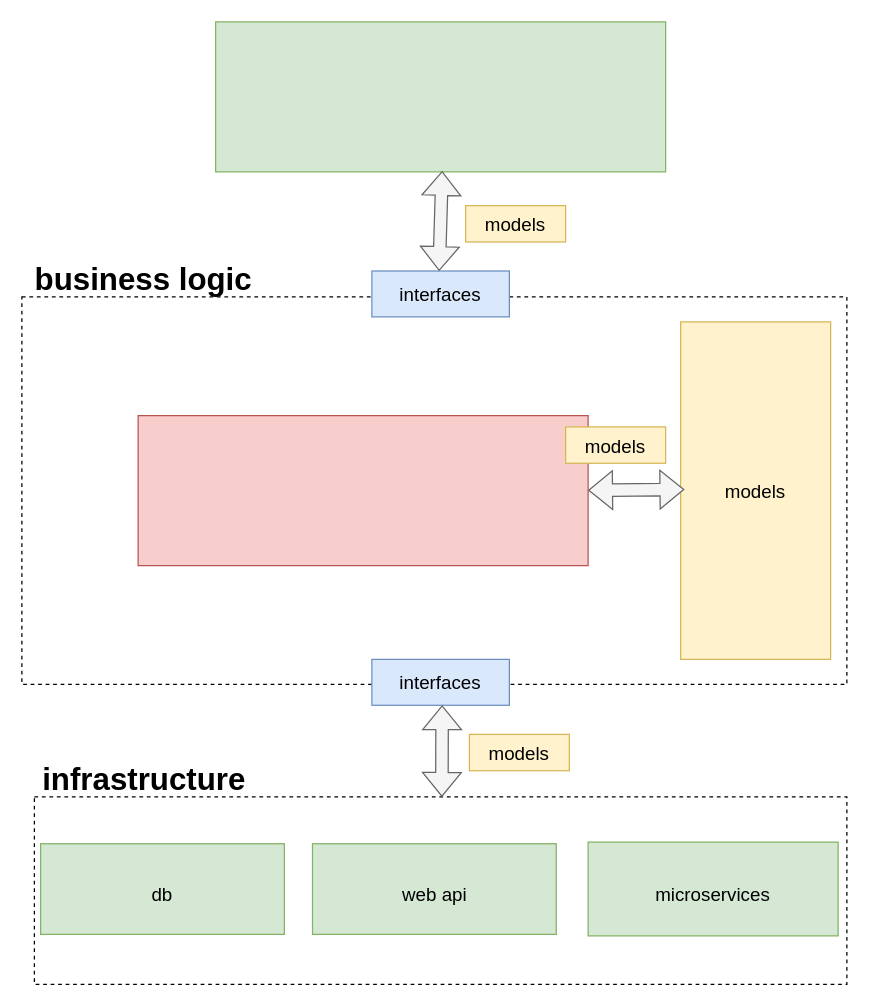
The diagram is 869 pixels wide and 1006 high, and some of its shapes have lost their labels. Each missing label, with the box of its shape:
services: (137, 414, 588, 566)
transport - REST - JSON RPC - GraphQL - GRPC: (214, 21, 666, 172)
